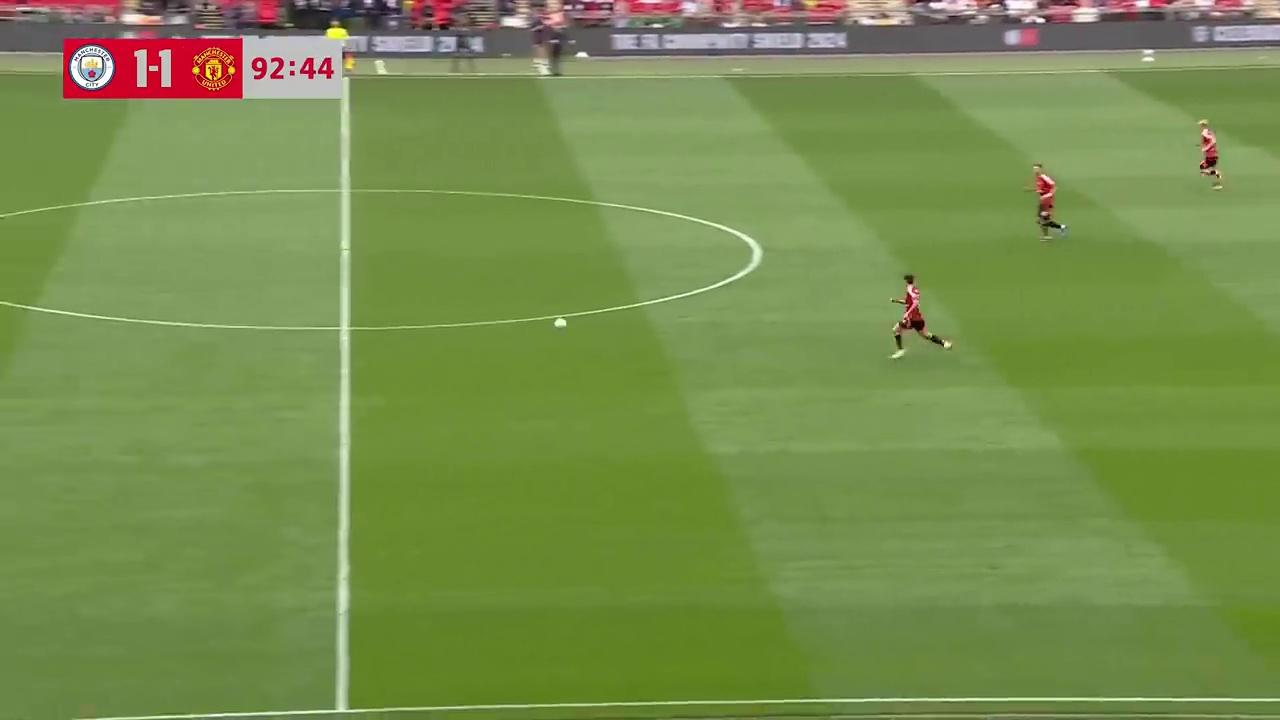ball: (555, 316, 568, 332)
player: (887, 273, 954, 358), (1026, 163, 1067, 240), (1197, 120, 1225, 190)
